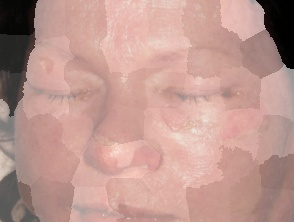SJS-TEN: (77, 118, 165, 200), (205, 93, 283, 159), (149, 94, 205, 148), (36, 52, 56, 74)
